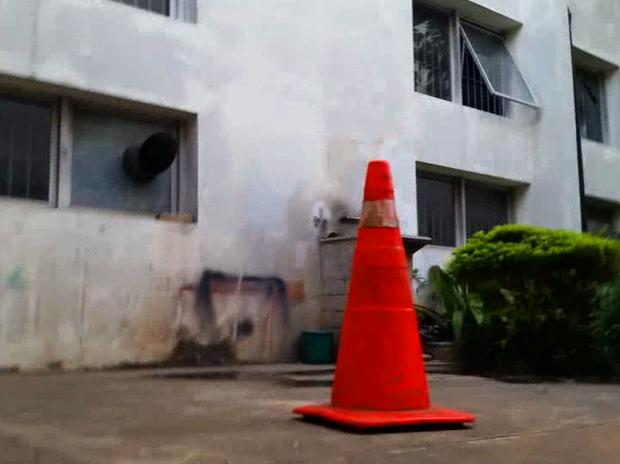0 cone: (291, 160, 475, 426)
